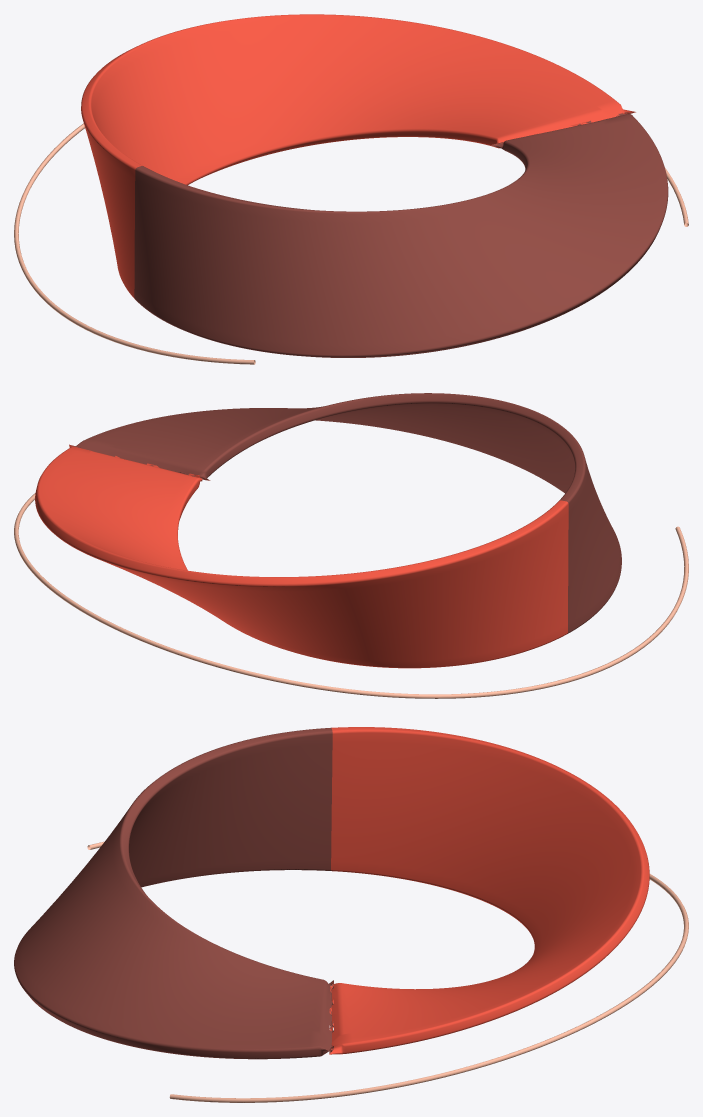
File: apar-manifesto-sculpture.glb
3 renders of one model, top to bottom at view 1: azimuth 30°, elevation 25°; view 2: azimuth 150°, elevation 25°; view 3: azimuth 270°, elevation 25°, orthographic. The views are drawn at different scales.
Parts seen in each view (by area): view 1: APAR / Endless idea, APAR / Orbit filament; view 2: APAR / Endless idea, APAR / Orbit filament; view 3: APAR / Endless idea, APAR / Orbit filament.
Boxes of the visible parts, x1,y1,x2,y2 form: APAR / Endless idea: (81, 14, 668, 357); APAR / Orbit filament: (14, 123, 688, 364); APAR / Endless idea: (35, 393, 621, 668); APAR / Orbit filament: (14, 493, 688, 698); APAR / Endless idea: (14, 727, 649, 1059); APAR / Orbit filament: (87, 841, 688, 1102).
Size of the model in its own units: 3.36 by 0.7306 by 3.18.
